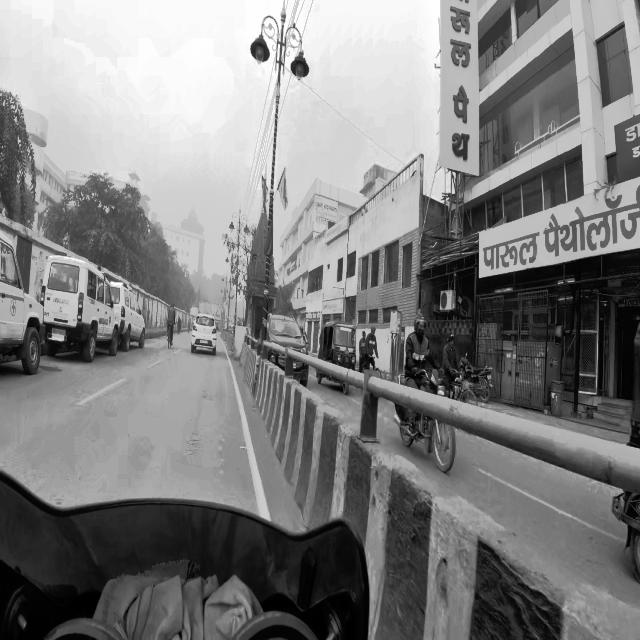Auto-Rickshaw: (317, 316, 359, 403)
Bike: (397, 312, 458, 490)
Car: (264, 312, 310, 389), (191, 312, 219, 358)
LCV: (0, 179, 48, 374), (43, 256, 120, 355), (112, 277, 148, 350)
